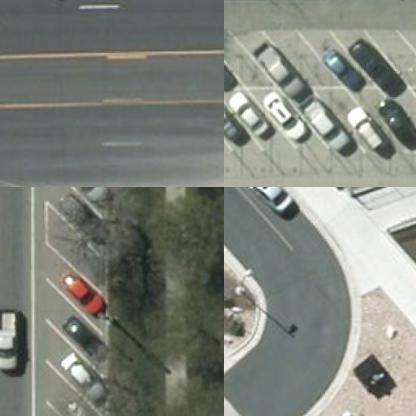car: (351, 38, 410, 98), (252, 44, 310, 100), (304, 98, 356, 155), (58, 193, 118, 239), (59, 357, 118, 403), (61, 312, 120, 358), (62, 270, 121, 316), (232, 92, 278, 144), (322, 46, 371, 94), (264, 95, 312, 141), (348, 106, 388, 155), (382, 98, 415, 156), (234, 187, 294, 218), (0, 306, 23, 372), (224, 93, 246, 146), (55, 187, 115, 199), (65, 403, 123, 415)
